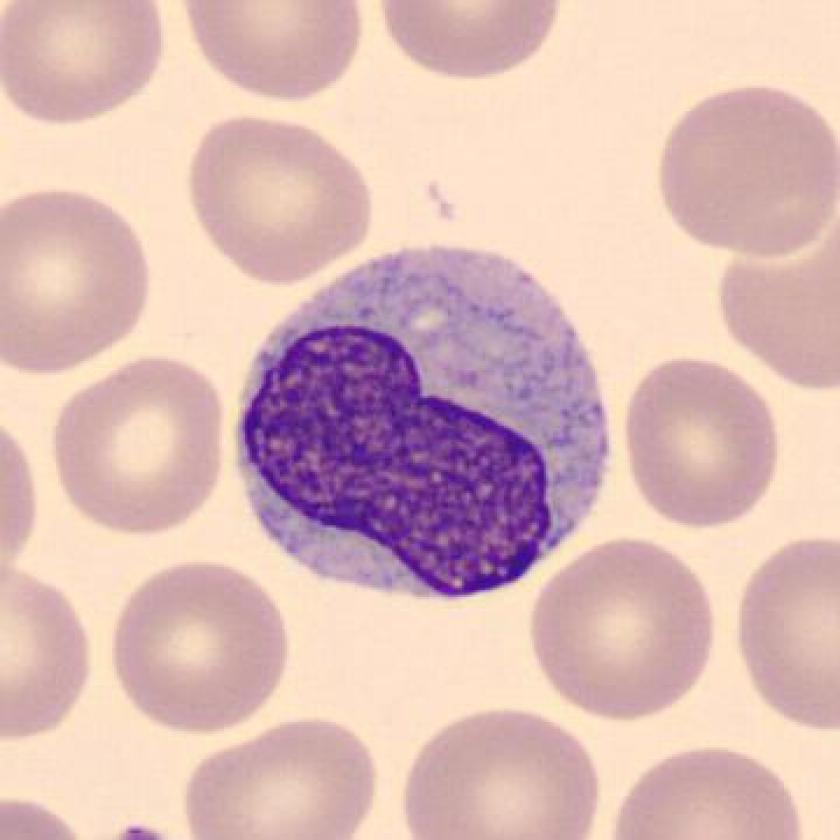monocyte: (206, 225, 631, 619)
